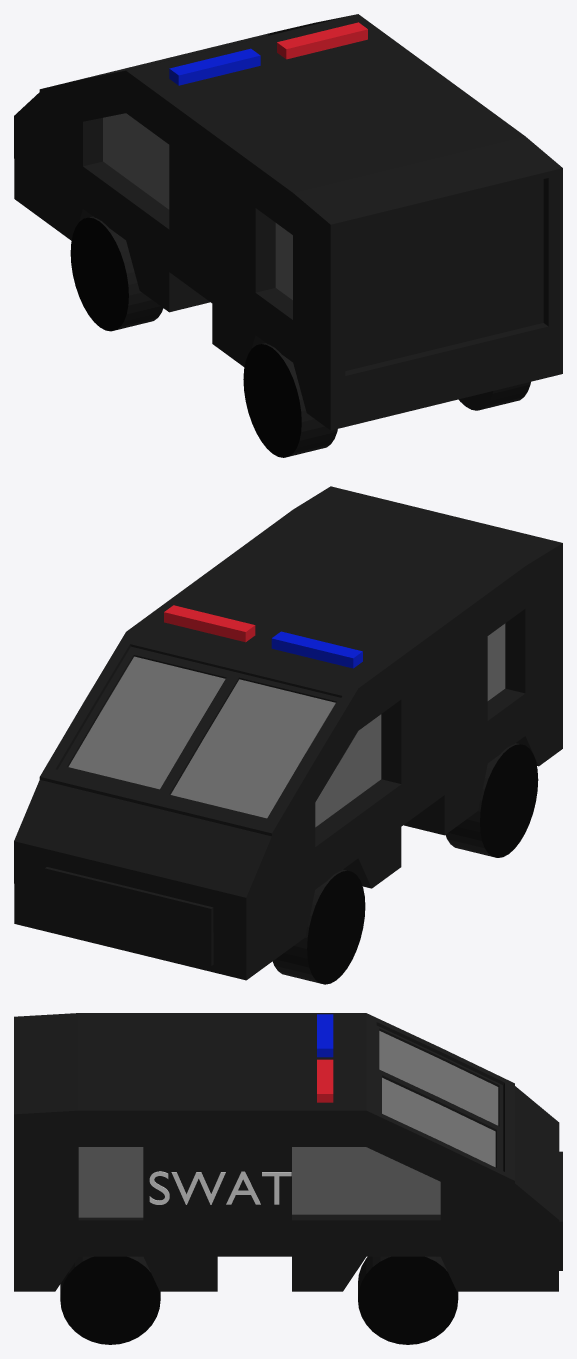
Rendered from Swat.fbx.
The picture shows the model from 3 angles, top to bottom: view 1: azimuth 30°, elevation 25°; view 2: azimuth 150°, elevation 25°; view 3: azimuth 270°, elevation 25°; orthographic projection. The views are drawn at different scales.
Parts seen in each view (by area): view 1: Cube; view 2: Cube; view 3: Cube, Text.
Part boxes in pixels (<box>): Cube: <box>14,14,562,457</box>; Cube: <box>14,486,562,984</box>; Cube: <box>14,1013,562,1344</box>; Text: <box>149,1171,291,1204</box>.
Bounding box in the file's own units: 283 × 326 × 664.
